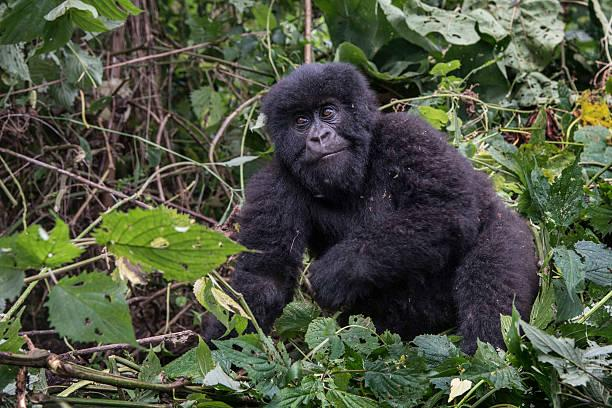goriile_montagne: (221, 61, 528, 341)
